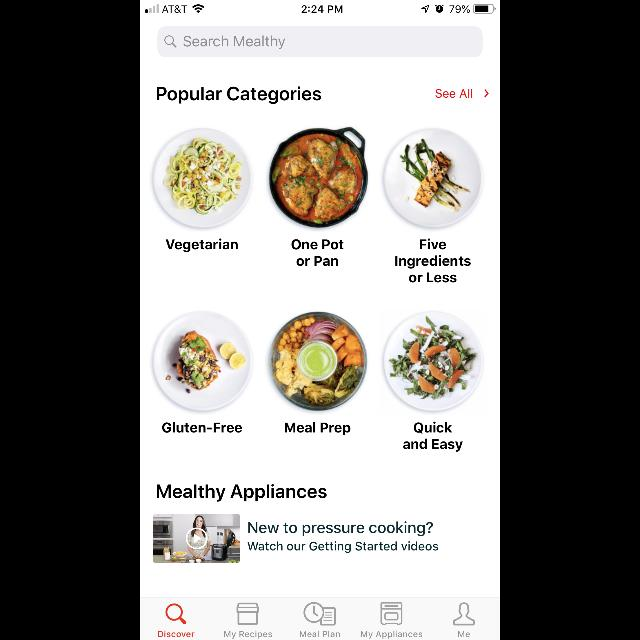icon: (304, 602, 336, 626), (380, 602, 402, 626), (453, 602, 475, 626), (186, 528, 208, 550), (166, 604, 187, 624), (165, 36, 177, 48), (485, 89, 489, 97)
image: (151, 127, 253, 230), (152, 310, 254, 412), (269, 127, 369, 229), (382, 128, 483, 228), (268, 311, 368, 411), (383, 311, 482, 411), (154, 514, 240, 564), (237, 603, 259, 625)
input: (158, 27, 482, 58)
text: (247, 521, 438, 553), (396, 238, 470, 284), (157, 484, 327, 502), (157, 87, 321, 105), (403, 422, 463, 452), (184, 36, 286, 50), (292, 240, 344, 266), (166, 238, 238, 252), (285, 422, 351, 436), (162, 422, 242, 433), (362, 631, 422, 639), (225, 630, 273, 638), (436, 89, 472, 98), (159, 630, 195, 638), (300, 631, 340, 637), (458, 631, 470, 637)
uppertaskbar: (140, 0, 500, 14)
